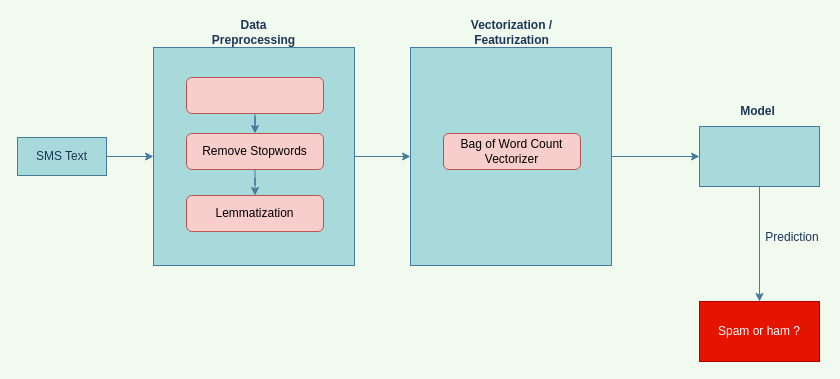
The diagram is 840 pixels wide and 379 high, and some of its shapes have lost their labels. Here are the shapes that lost their labels. From the top down, the centre of each, then its label:
At [255,95]: "Tokenization".
At [759,156]: "Naïve Bayes Model".
